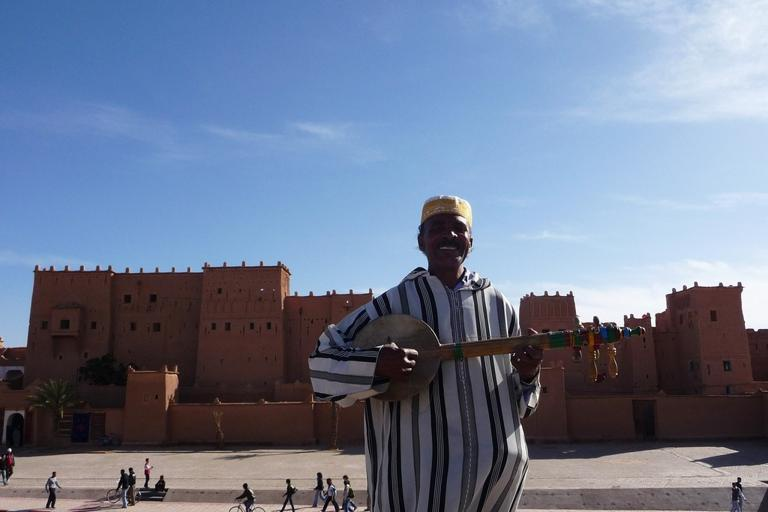non-vehicle: (106, 482, 139, 505), (227, 496, 264, 511)
